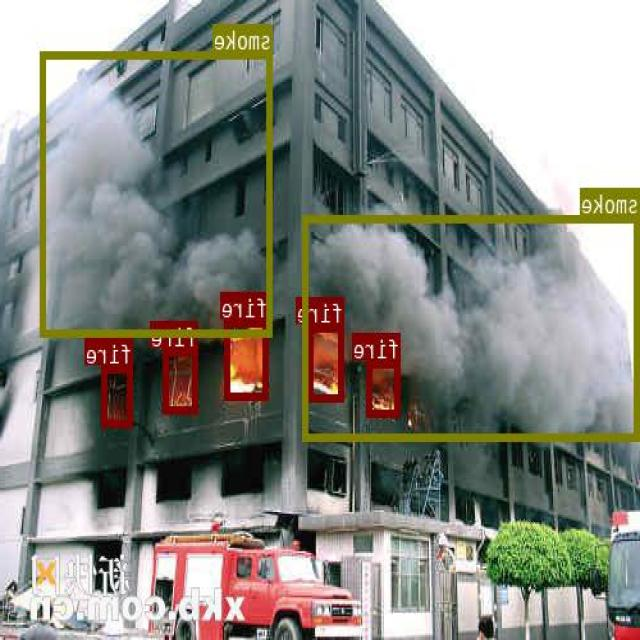fire: (226, 318, 270, 398), (309, 324, 345, 400), (164, 347, 199, 412), (103, 365, 134, 426), (368, 359, 401, 416)
smoke: (303, 214, 640, 440), (41, 50, 274, 336)
